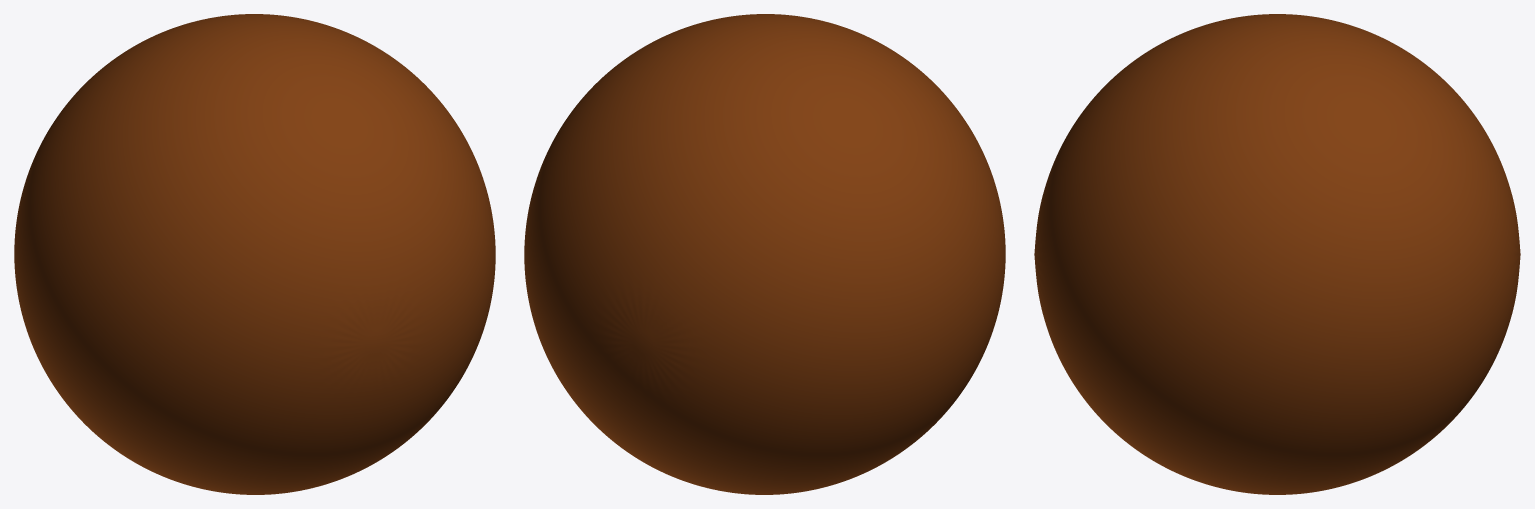
The model's file is testiculos_lado_izquierdo.fbx.
3 renders of one model, left to right at view 1: azimuth 30°, elevation 25°; view 2: azimuth 150°, elevation 25°; view 3: azimuth 270°, elevation 25°, orthographic.
Visible parts, largest first — view 1: Sphere_002; view 2: Sphere_002; view 3: Sphere_002.
Part boxes in pixels (x1,y1,x2,y2): Sphere_002: (14, 14, 495, 494); Sphere_002: (524, 14, 1005, 494); Sphere_002: (1034, 14, 1520, 494).
Bounding box in the file's own units: 1.97 × 1.97 × 2.
